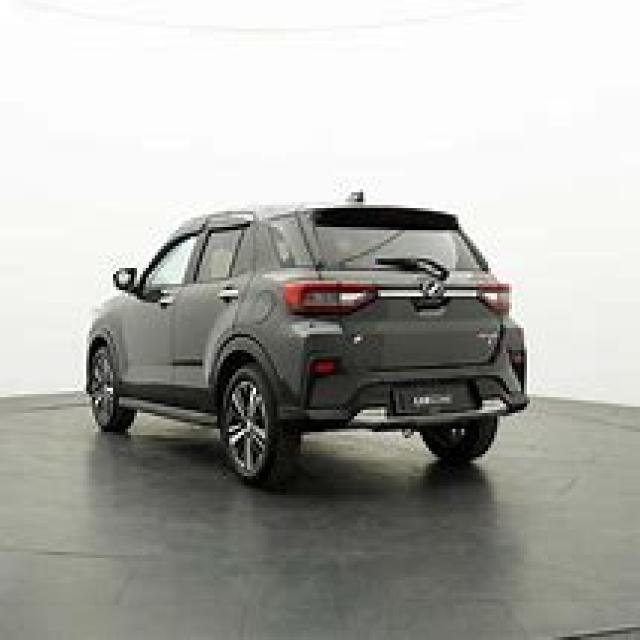PeroduaAtiva: (80, 186, 530, 489)
